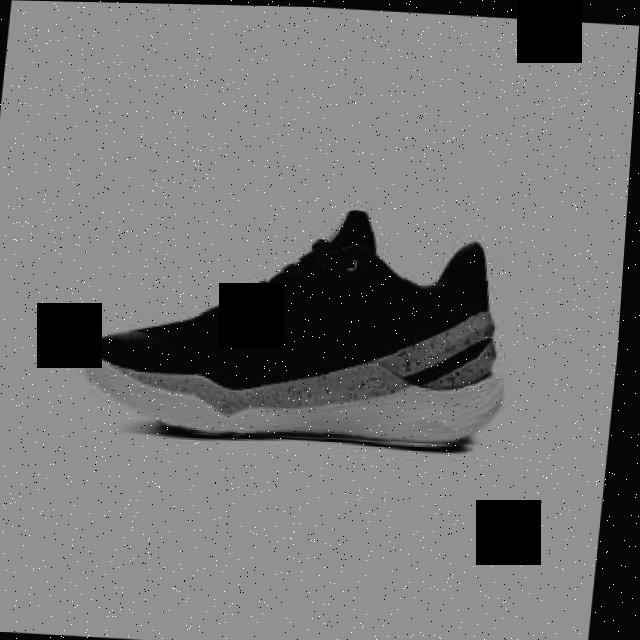shoe: (87, 196, 524, 449)
